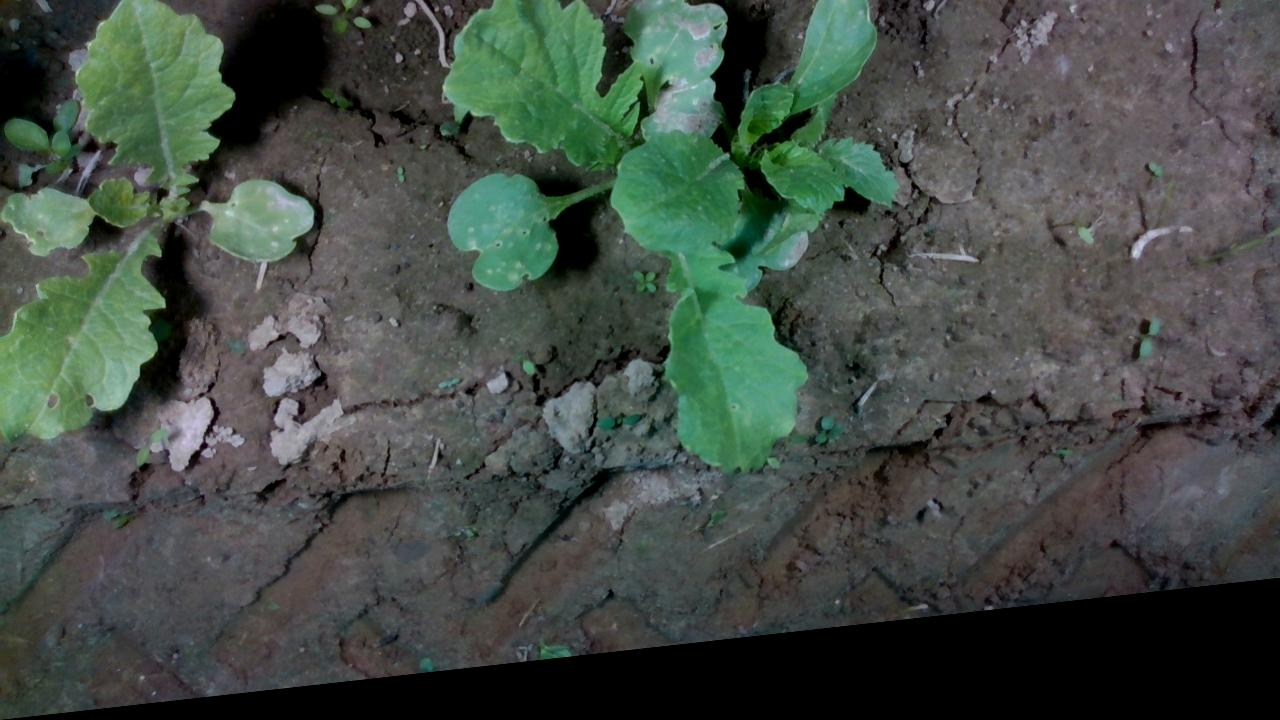weed: (311, 0, 373, 45), (131, 429, 166, 473), (1136, 342, 1160, 386), (316, 90, 351, 119), (630, 282, 656, 311), (1147, 185, 1162, 205), (394, 173, 405, 195), (873, 0, 892, 4)
